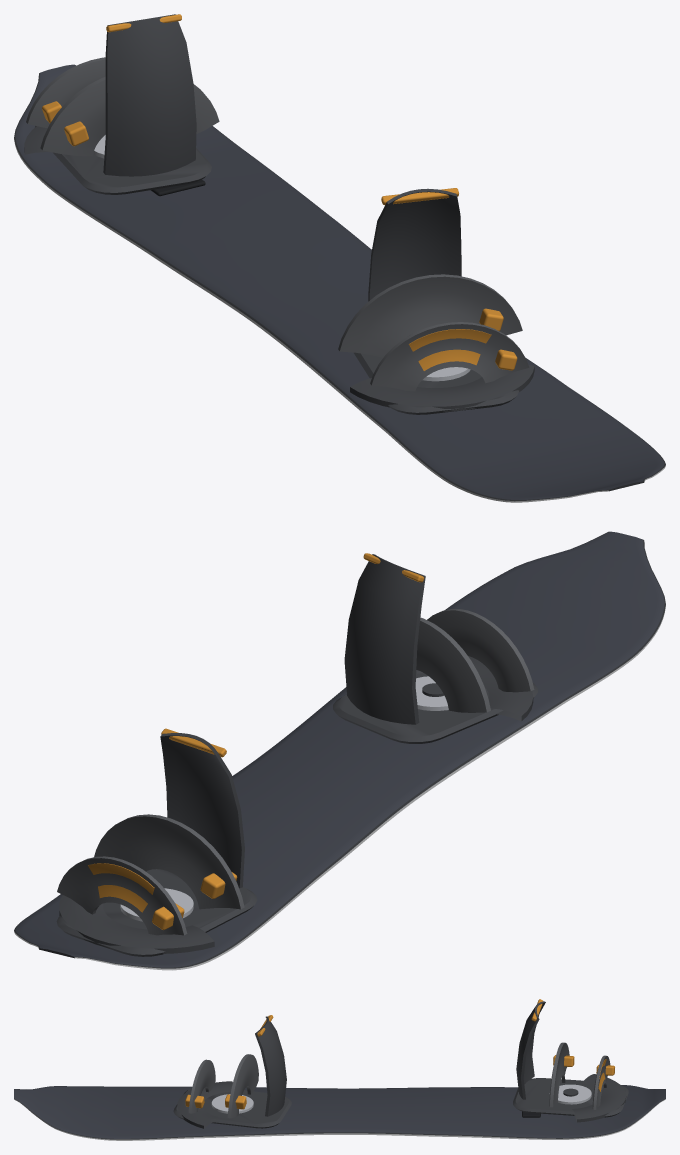
Rendered from Snowboard.fbx.
3 renders of one model, top to bottom at view 1: azimuth 30°, elevation 25°; view 2: azimuth 150°, elevation 25°; view 3: azimuth 270°, elevation 25°, orthographic. The views are drawn at different scales.
Parts seen in each view (by area): view 1: Snowboard; view 2: Snowboard; view 3: Snowboard.
Boxes of the visible parts, x1=… form: Snowboard: x1=14, y1=14, x2=665, y2=502; Snowboard: x1=14, y1=531, x2=665, y2=970; Snowboard: x1=14, y1=999, x2=665, y2=1140.
Size of the model in its own units: 30.8 by 26.33 by 155.
